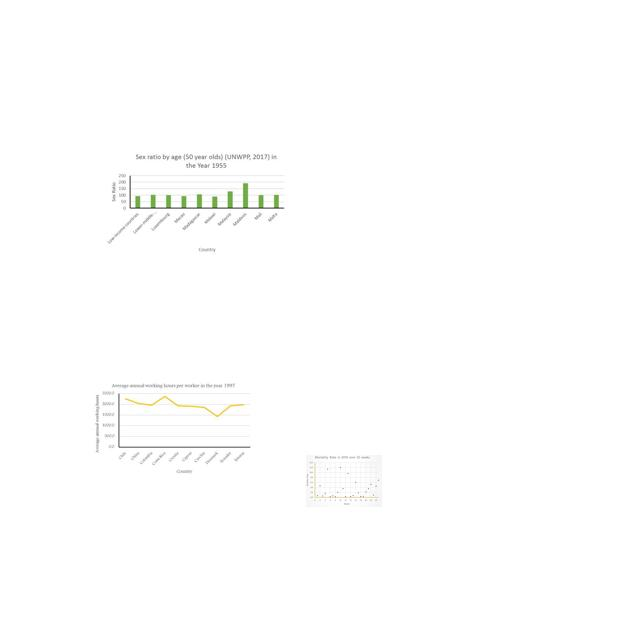Graph: (105, 149, 288, 256), (94, 382, 253, 475), (306, 455, 382, 507)
